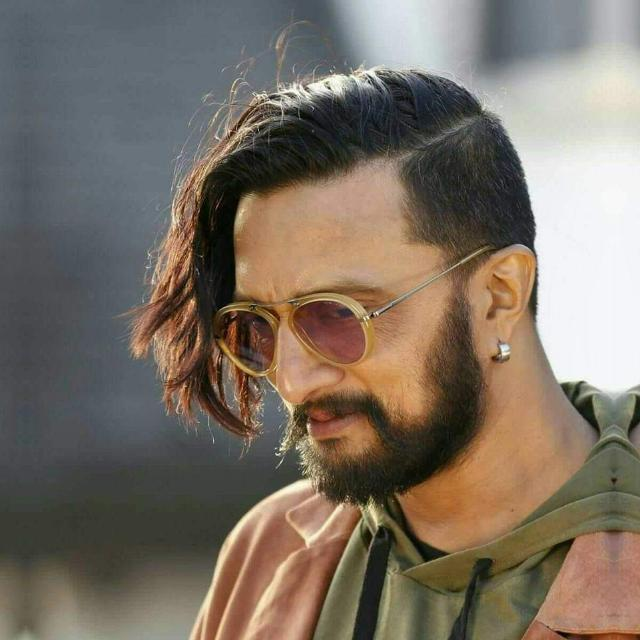person: (139, 42, 557, 640)
